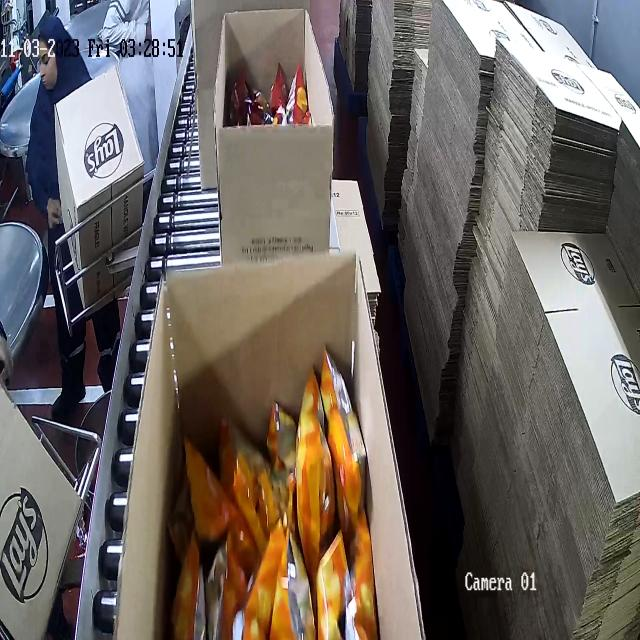FRENCH_CHEESE: (169, 346, 379, 638)
